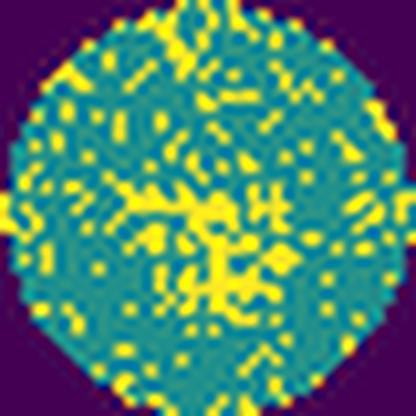Loc: (102, 165, 304, 327), (248, 181, 295, 233), (155, 20, 195, 80)
